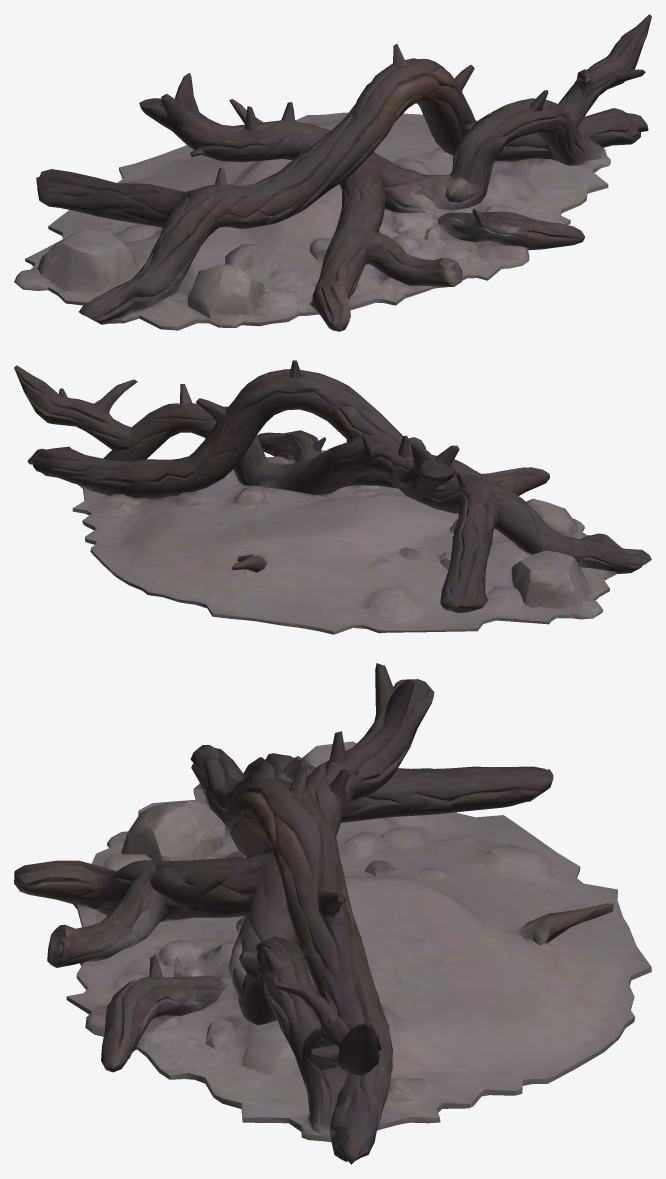
Rendered from raices_secas.glb.
3 renders of one model, top to bottom at view 1: azimuth 30°, elevation 25°; view 2: azimuth 150°, elevation 25°; view 3: azimuth 270°, elevation 25°, orthographic. The views are drawn at different scales.
Parts seen in each view (by area): view 1: raices_secas_malla; view 2: raices_secas_malla; view 3: raices_secas_malla.
Part boxes in pixels (x1,y1,x2,y2): raices_secas_malla: [14, 14, 651, 331]; raices_secas_malla: [14, 360, 651, 634]; raices_secas_malla: [14, 663, 651, 1164].
Bounding box in the file's own units: 0.3381 × 0.0899 × 0.2192.
Materials: 1 (1 with a texture image).
